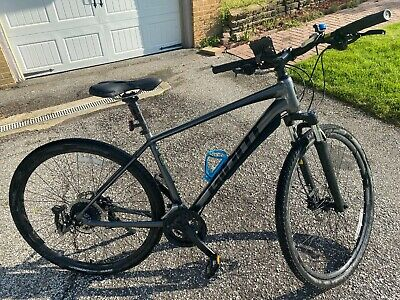bicycle: (9, 9, 393, 289)
